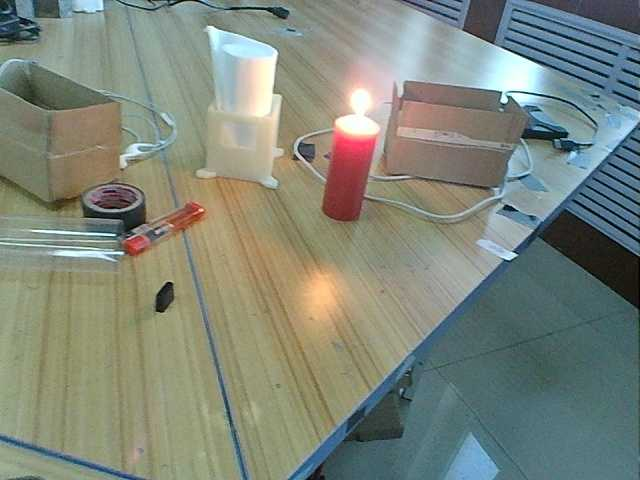fire: (323, 131, 376, 225), (329, 91, 388, 132)
